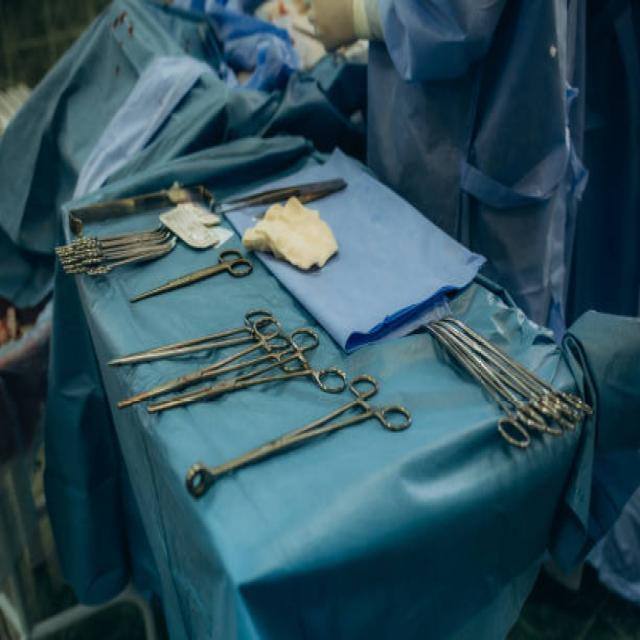tools_table: (52, 163, 592, 639)
